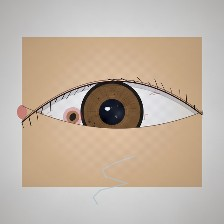foreign_body_visible: (52, 101, 93, 133)
